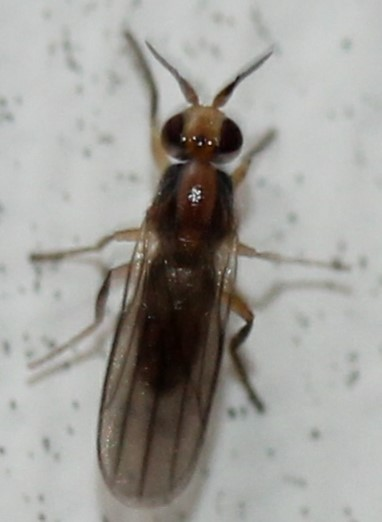Chloropidae: (25, 26, 350, 518)
